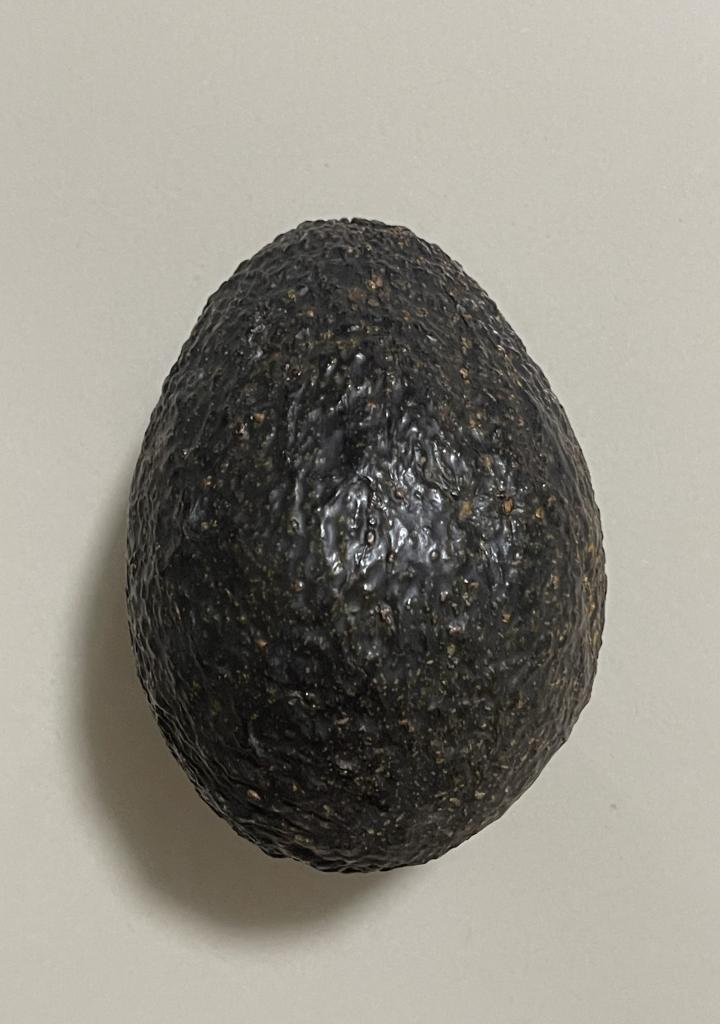Level2: (116, 206, 608, 881)
